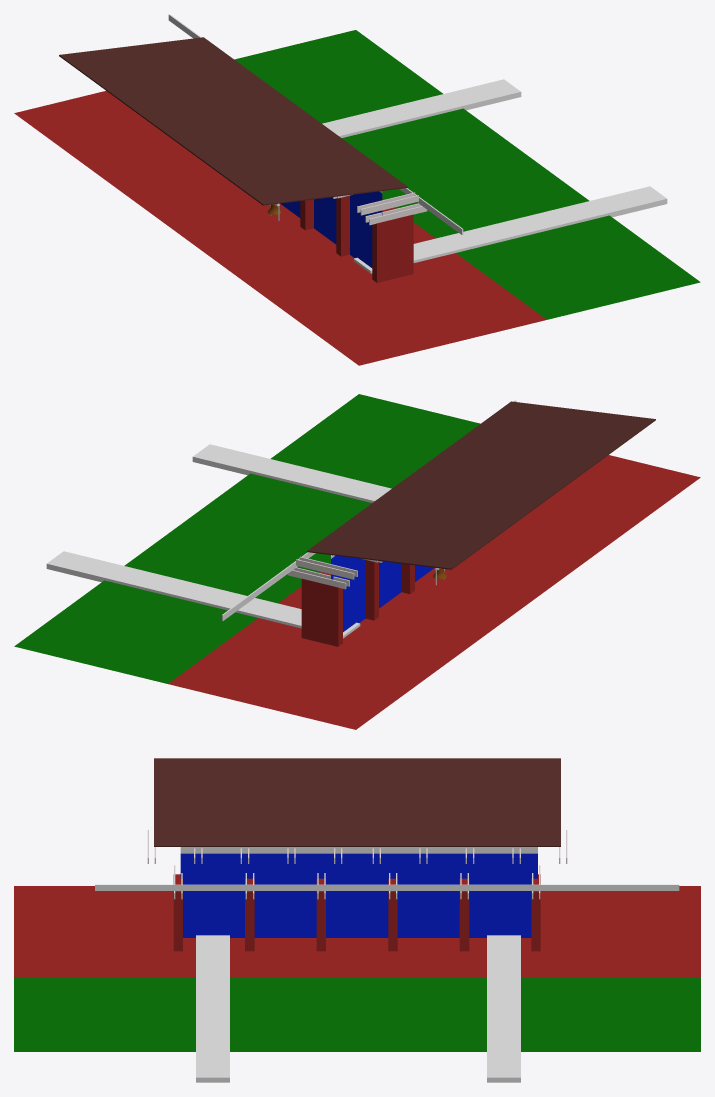
The model's file is Building.fbx.
3 renders of one model, top to bottom at view 1: azimuth 30°, elevation 25°; view 2: azimuth 150°, elevation 25°; view 3: azimuth 270°, elevation 25°, orthographic.
Parts seen in each view (by area): view 1: Plane.001, Cube.001, Cube.079, Cube.080, Cube, Plane, Cube.002, Cube.003, Cube.004; view 2: Plane.001, Cube.001, Cube.080, Cube.079, Cube, Plane, Cube.002, Cube.003, Cube.004; view 3: Plane.001, Cube.001, Plane, Cube.079, Cube.080, Cube.003, Cube, Cube.002, Cube.004.
Part boxes in pixels (bbox=[...]): Plane.001: bbox=[14, 30, 700, 365]; Cube.001: bbox=[59, 37, 407, 205]; Cube.079: bbox=[353, 186, 667, 273]; Cube.080: bbox=[322, 79, 521, 137]; Cube: bbox=[300, 195, 413, 282]; Plane: bbox=[280, 191, 382, 267]; Cube.002: bbox=[337, 192, 418, 215]; Cube.003: bbox=[168, 14, 463, 234]; Cube.004: bbox=[333, 196, 427, 225]; Plane.001: bbox=[14, 394, 700, 729]; Cube.001: bbox=[307, 401, 655, 569]; Cube.080: bbox=[46, 551, 360, 638]; Cube.079: bbox=[192, 444, 391, 502]; Cube: bbox=[301, 560, 414, 646]; Plane: bbox=[331, 555, 434, 631]; Cube.002: bbox=[296, 556, 377, 579]; Cube.003: bbox=[222, 400, 516, 620]; Cube.004: bbox=[287, 561, 382, 589]; Plane.001: bbox=[14, 886, 700, 1051]; Cube.001: bbox=[154, 758, 560, 846]; Plane: bbox=[180, 847, 537, 937]; Cube.079: bbox=[196, 935, 229, 1082]; Cube.080: bbox=[487, 935, 520, 1082]; Cube.003: bbox=[95, 884, 679, 890]; Cube: bbox=[173, 874, 540, 951]; Cube.002: bbox=[147, 830, 567, 863]; Cube.004: bbox=[174, 865, 540, 899].
Bounding box in the file's own units: 10382 × 2767 × 14591.
